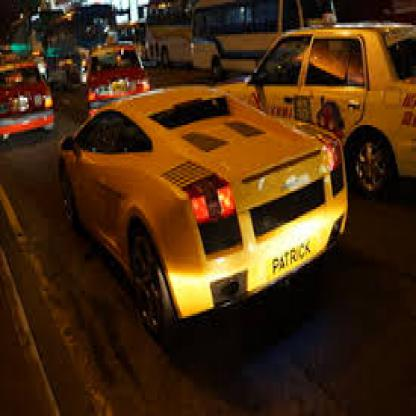car: (61, 86, 352, 341), (245, 25, 415, 198), (82, 43, 151, 116), (1, 59, 56, 143)
